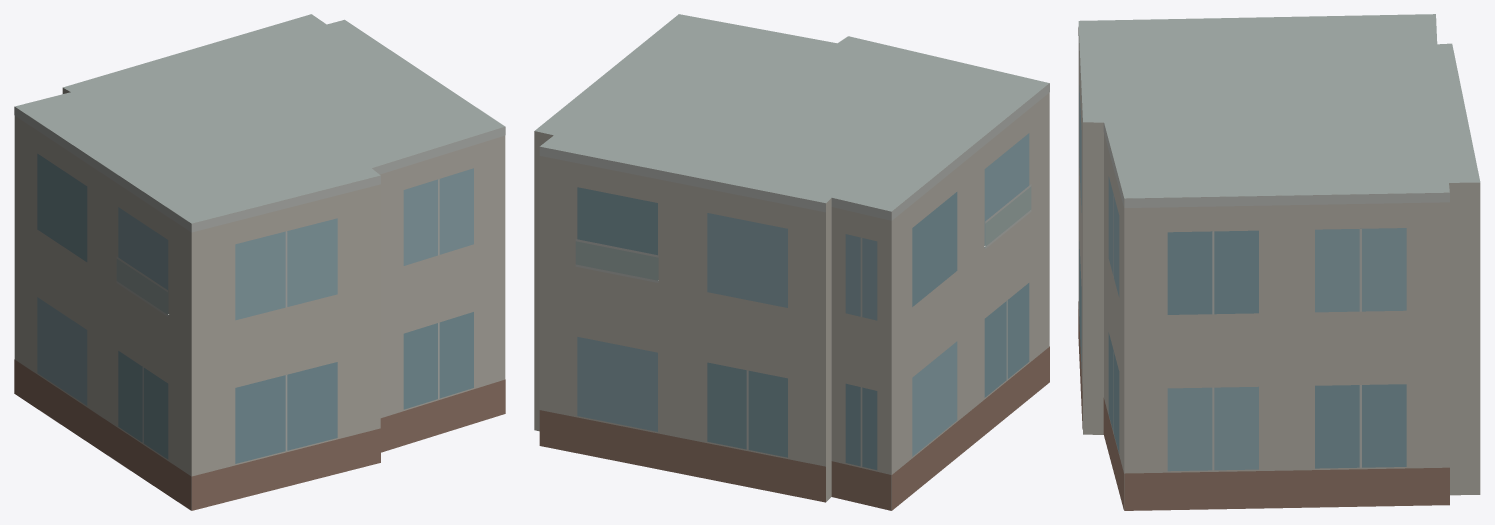
Rendered from survey-upis-32685853.glb.
3 renders of one model, left to right at view 1: azimuth 30°, elevation 25°; view 2: azimuth 150°, elevation 25°; view 3: azimuth 270°, elevation 25°, orthographic. The views are drawn at different scales.
Visible parts, largest first — view 1: survey-upis-32685853.tmp; view 2: survey-upis-32685853.tmp; view 3: survey-upis-32685853.tmp.
Part boxes in pixels (<box>): survey-upis-32685853.tmp: <box>14,14,505,510</box>; survey-upis-32685853.tmp: <box>534,14,1049,510</box>; survey-upis-32685853.tmp: <box>1078,14,1480,510</box>.
Size of the model in its own units: 10.02 by 7.9 by 9.23.
